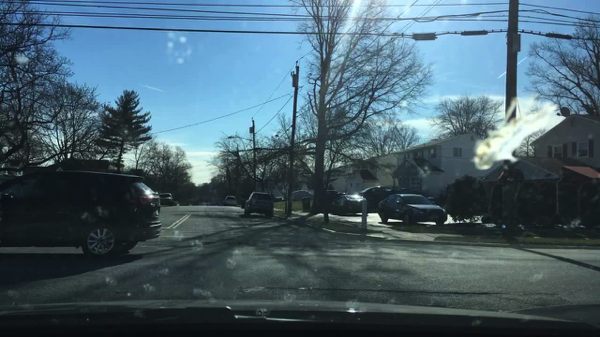car: (0, 171, 160, 257), (376, 194, 447, 226), (244, 192, 273, 218), (331, 195, 366, 214), (359, 186, 397, 195), (292, 191, 315, 199), (160, 193, 174, 205), (223, 196, 235, 206), (427, 198, 439, 207), (326, 190, 345, 195), (272, 195, 283, 203), (239, 198, 246, 207)
